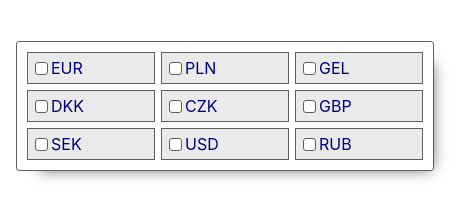
Test: deletes selected currency from the page after clicking on checkbox the second time
The image size is (460, 222).
Click the text "USD" at (202, 144), box [185,132,219,156]
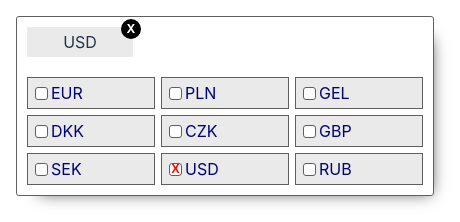
Click the 8th checkbox named "checkbox" at (176, 169), box [169,162,182,176]
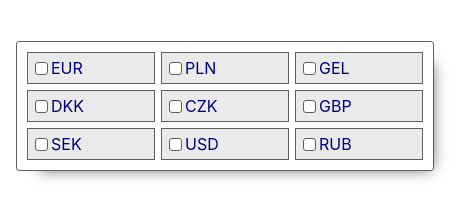
Check: the checkbox named "checkbox" next to "USD" is not checked, box [169,138,182,150]
Check: the text "USD" is shown once, box [185,132,219,156]
